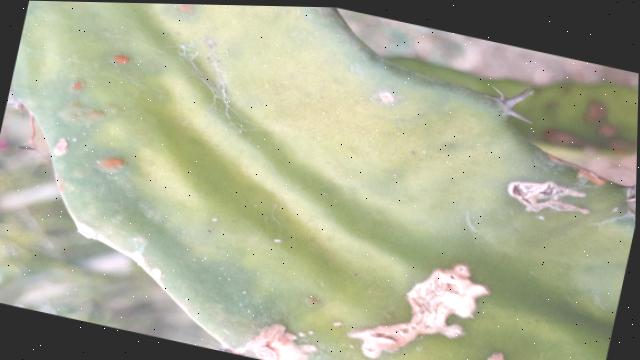stemcanker: (99, 151, 135, 181), (371, 85, 401, 109), (107, 48, 134, 69), (68, 75, 91, 96)
